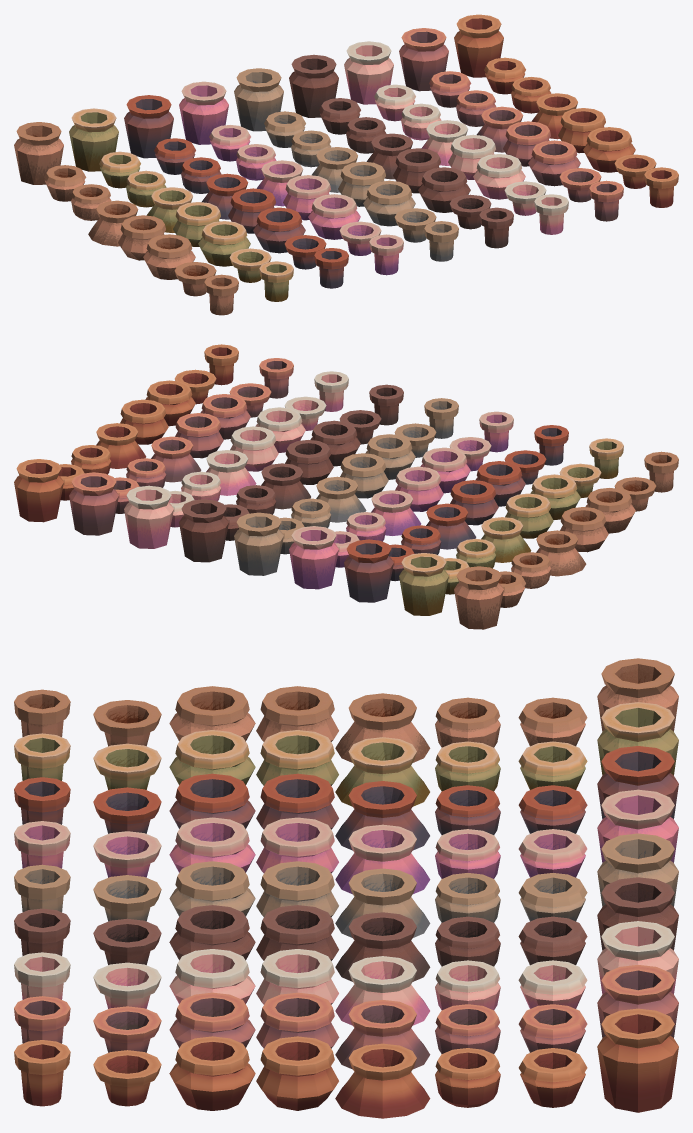
File: Pot Kit by Charlie - iScZ4sRA7M.glb
3 views of the same model, one above another, from view 1: azimuth 30°, elevation 25°; view 2: azimuth 150°, elevation 25°; view 3: azimuth 270°, elevation 25° (orthographic). The views are drawn at different scales.
Visible parts, largest first — view 1: pot_1 (×9), pot_6 (×9), pot_5 (×9), pot_4 (×9), pot_2 (×9), pot_8 (×9), pot_3 (×9), pot_7 (×9); view 2: pot_1 (×9), pot_5 (×9), pot_4 (×9), pot_6 (×9), pot_8 (×9), pot_3 (×9), pot_7 (×9), pot_2 (×9); view 3: pot_1 (×9), pot_4 (×9), pot_6 (×9), pot_5 (×9), pot_3 (×9), pot_2 (×9), pot_7 (×9), pot_8 (×9).
Part boxes in pixels (box(x1,y1,x2,y2)): pot_1 (×9): box(14, 14, 503, 184); pot_6 (×9): box(143, 127, 635, 279); pot_5 (×9): box(118, 108, 605, 260); pot_4 (×9): box(88, 93, 577, 246); pot_2 (×9): box(44, 57, 525, 201); pot_8 (×9): box(204, 167, 678, 315); pot_3 (×9): box(71, 77, 551, 220); pot_7 (×9): box(174, 154, 656, 296); pot_1 (×9): box(14, 459, 503, 629); pot_5 (×9): box(120, 399, 608, 552); pot_4 (×9): box(96, 423, 586, 576); pot_6 (×9): box(145, 380, 635, 533); pot_8 (×9): box(204, 344, 678, 492); pot_3 (×9): box(71, 445, 551, 588); pot_7 (×9): box(174, 369, 656, 511); pot_2 (×9): box(58, 464, 525, 607); pot_1 (×9): box(597, 658, 678, 1112); pot_4 (×9): box(335, 693, 430, 1118); pot_6 (×9): box(169, 686, 255, 1110); pot_5 (×9): box(256, 686, 339, 1110); pot_3 (×9): box(435, 697, 500, 1107); pot_2 (×9): box(518, 697, 587, 1107); pot_7 (×9): box(93, 700, 161, 1106); pot_8 (×9): box(14, 689, 70, 1106).
Bounding box in the file's own units: 0.223 × 0.0199 × 0.1605.
Materials: 9 (9 with a texture image).
